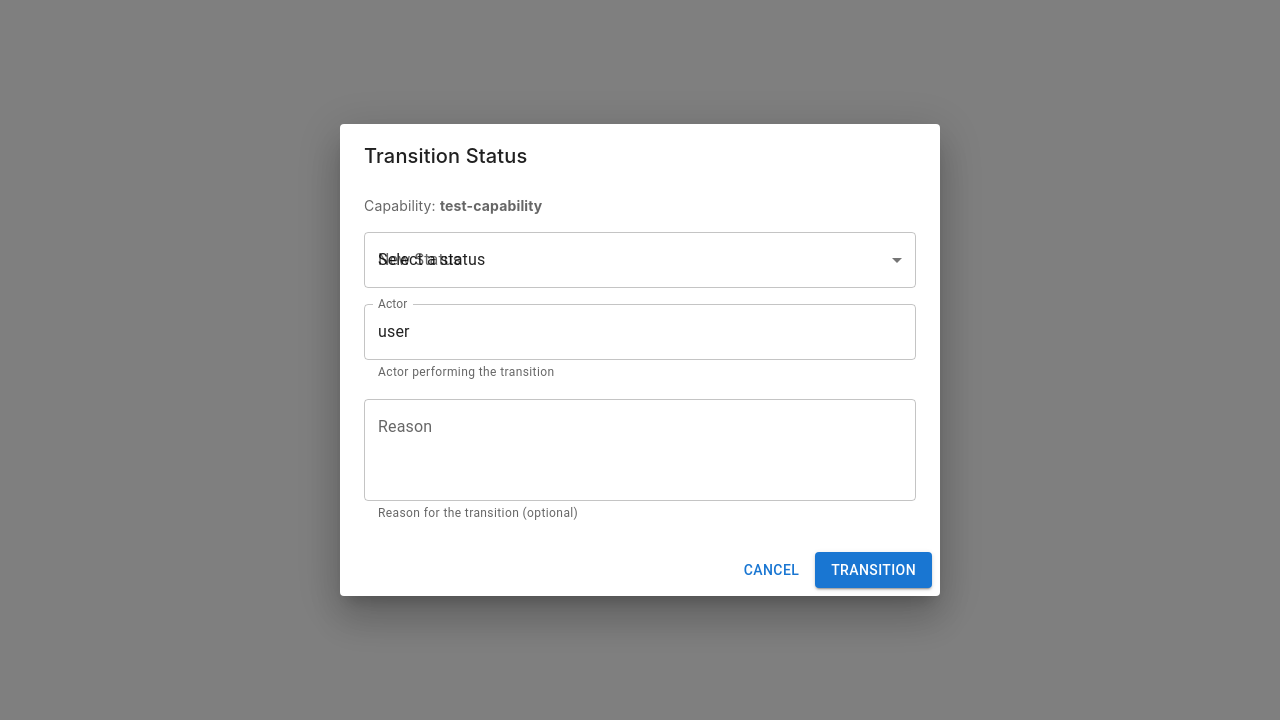
it: TransitionDialog › shows validation error when submitting without status
Step 1. Click the button with test id "transition-submit-button" → (874,570), box [815, 552, 932, 588]
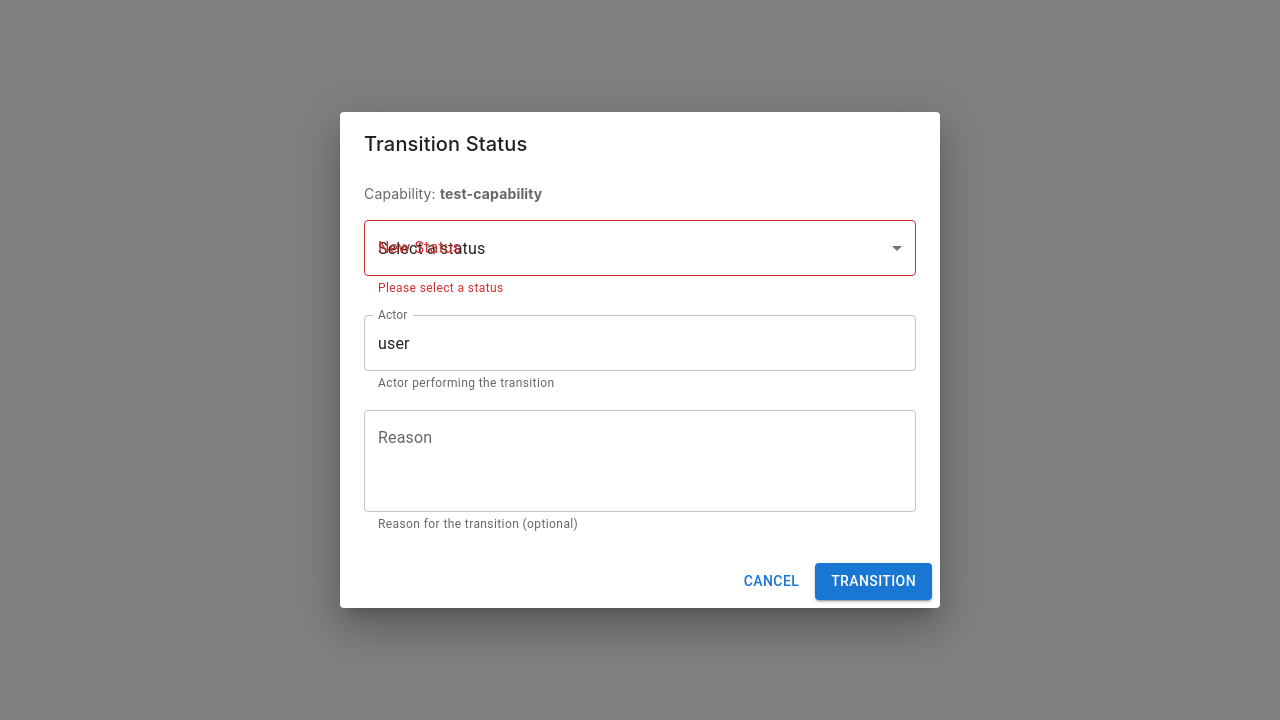
Expected: the text "Please select a status" is shown, [378, 281, 504, 295]
